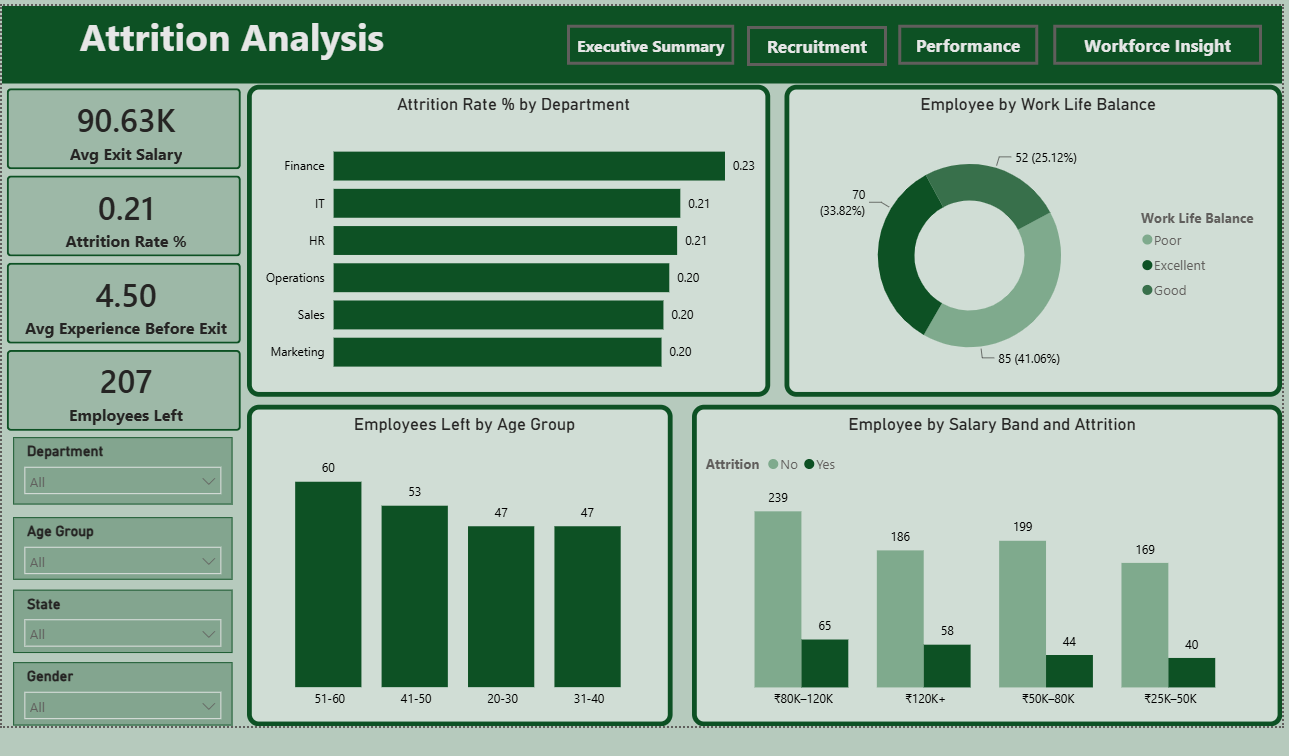

Layout of this report page (visuals, bound fields, positions):
{"tool":"powerbi","page":{"name":"Attrition","canvas":[1280,720],"ordinal":3},"visuals":[{"type":"shape","box":[0,0,1280,77.5],"z":0},{"type":"textbox","box":[0,0,459.8,77],"z":1000},{"type":"actionButton","box":[896.2,18.8,140,40],"z":2000},{"type":"actionButton","box":[1051.2,18.8,208.8,40],"z":3000},{"type":"actionButton","box":[565,18.8,167.5,40],"z":4000},{"type":"actionButton","box":[745,20,140,40],"z":5000},{"type":"cardVisual","fields":{"Data":["Hr_Analytics.Avg Exit Salary","Hr_Analytics.Attrition Rate %","Hr_Analytics.Avg Experience Before Exit","Hr_Analytics.Employees Left"]},"box":[0,77,244.6,353.4],"z":6000},{"type":"clusteredBarChart","fields":{"Y":["Hr_Analytics.Attrition Rate %"],"Category":["Hr_Analytics.Department"]},"box":[244.6,78.3,523.4,311.8],"z":7000},{"type":"columnChart","fields":{"Category":["Hr_Analytics.Age Group"],"Y":["Hr_Analytics.Employees Left"]},"box":[244.6,398.6,425.5,321.6],"z":8000},{"type":"donutChart","title":"Employee by Work Life Balance","fields":{"Category":["Hr_Analytics.Work_Life_Balance"],"Y":["CountNonNull(Hr_Analytics.Employee_ID)"]},"box":[782.6,78.3,497.7,311.8],"z":9000},{"type":"clusteredColumnChart","title":"Employee by Salary Band and Attrition","fields":{"Category":["Hr_Analytics.Salary Band"],"Y":["CountNonNull(Hr_Analytics.Employee_ID)"],"Series":["Hr_Analytics.Attrition"]},"box":[689.7,398.6,590.6,321.6],"z":10000},{"type":"slicer","fields":{"Values":["Hr_Analytics.Department"]},"box":[11.2,431.2,218.9,67.3],"z":11000},{"type":"slicer","fields":{"Values":["Hr_Analytics.Age Group"]},"box":[11,511.1,218.9,62.4],"z":12000},{"type":"slicer","fields":{"Values":["Hr_Analytics.State"]},"box":[11,583.3,218.9,63.6],"z":13000},{"type":"slicer","fields":{"Values":["Hr_Analytics.Gender"]},"box":[11,656.7,218.9,63.6],"z":14000}]}

Visuals, with their boxes in screenshot pixels (x1, y1, x2, y2):
shape: bbox=[3, 3, 1275, 80]
textbox: bbox=[3, 3, 460, 80]
actionButton: bbox=[893, 22, 1032, 62]
actionButton: bbox=[1047, 22, 1255, 62]
actionButton: bbox=[564, 22, 731, 62]
actionButton: bbox=[743, 23, 882, 63]
cardVisual - Hr_Analytics.Avg Exit Salary x Hr_Analytics.Attrition Rate %: bbox=[3, 80, 246, 431]
clusteredBarChart - Hr_Analytics.Attrition Rate % x Hr_Analytics.Department: bbox=[246, 81, 766, 391]
columnChart - Hr_Analytics.Age Group x Hr_Analytics.Employees Left: bbox=[246, 399, 669, 719]
"Employee by Work Life Balance" donutChart: bbox=[781, 81, 1275, 391]
"Employee by Salary Band and Attrition" clusteredColumnChart: bbox=[688, 399, 1275, 719]
slicer - Hr_Analytics.Department: bbox=[14, 432, 232, 498]
slicer - Hr_Analytics.Age Group: bbox=[14, 511, 232, 573]
slicer - Hr_Analytics.State: bbox=[14, 583, 232, 646]
slicer - Hr_Analytics.Gender: bbox=[14, 656, 232, 719]
